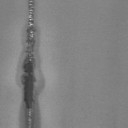slag inclusion: (20, 0, 38, 128)
